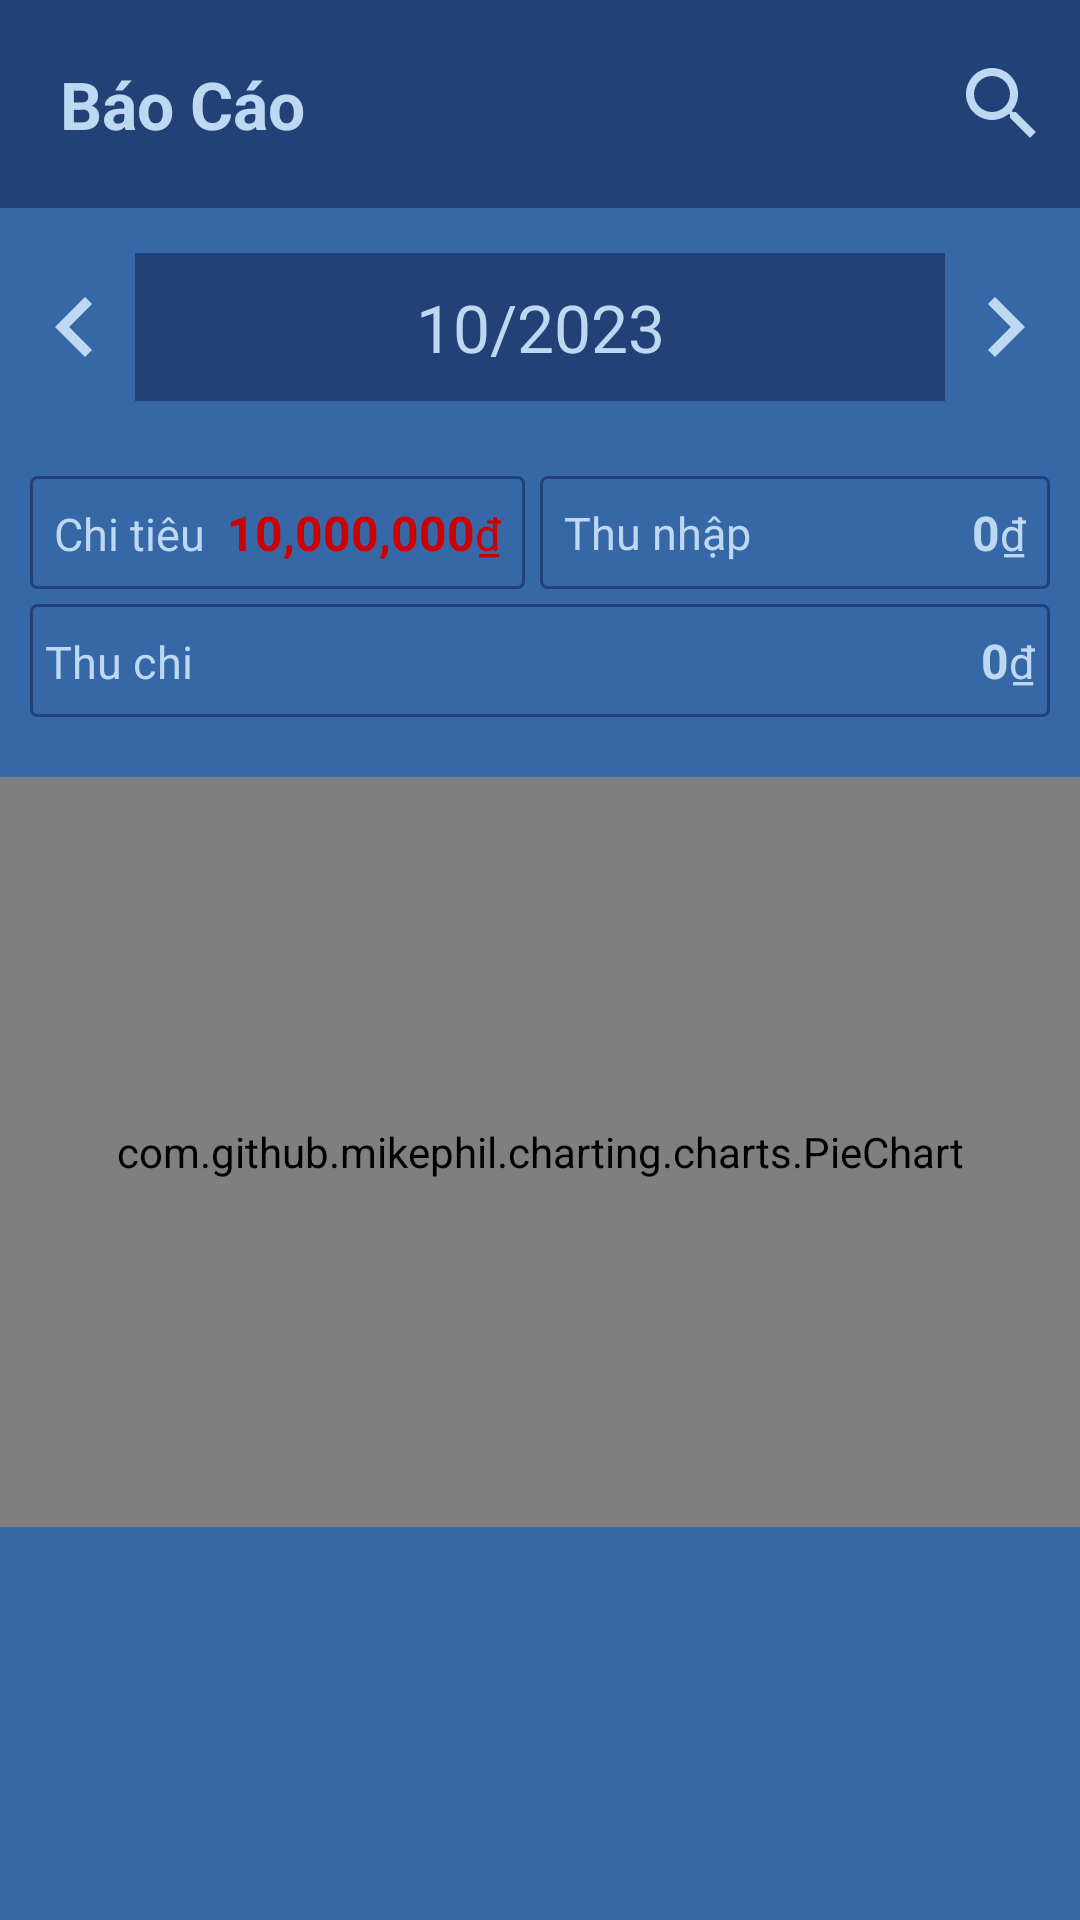

Locate icon controls on the screen. Image size 1080 x 1920, boxes as {"x1": x1, "y1": y1, "x2": x2, "y2": y2}.
before: {"x1": 55, "y1": 297, "x2": 92, "y2": 357}
next: {"x1": 988, "y1": 297, "x2": 1025, "y2": 357}
search: {"x1": 966, "y1": 68, "x2": 1036, "y2": 138}
